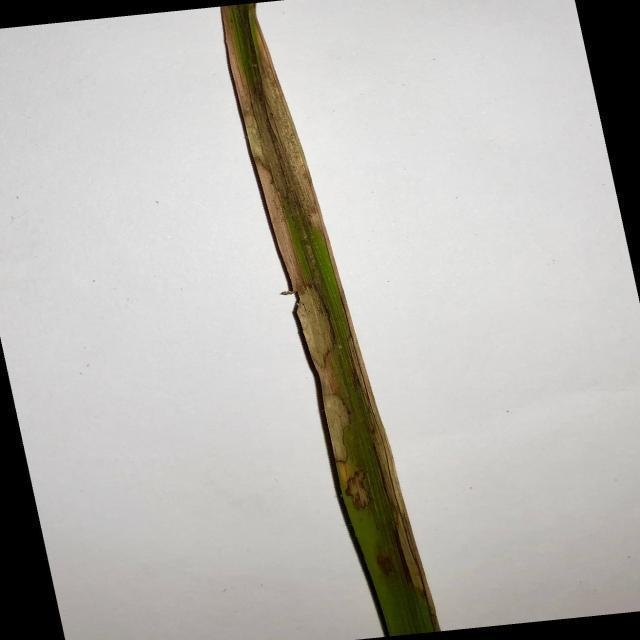Bacterial_Leaf_Blight: (220, 4, 375, 510), (370, 413, 432, 589)
